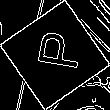P_W: (27, 33, 83, 77)
